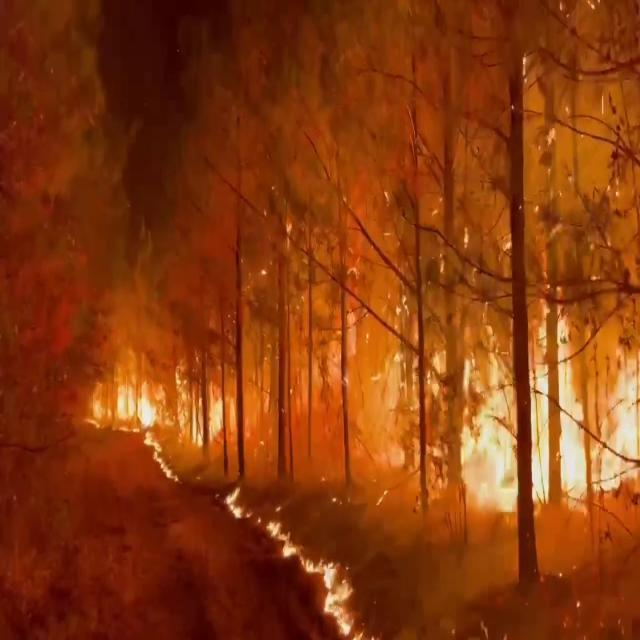Fire: (442, 312, 636, 532), (86, 358, 162, 439), (226, 487, 298, 561), (304, 556, 364, 640), (186, 373, 241, 452)
Smoke: (314, 0, 640, 475), (44, 0, 402, 375)
